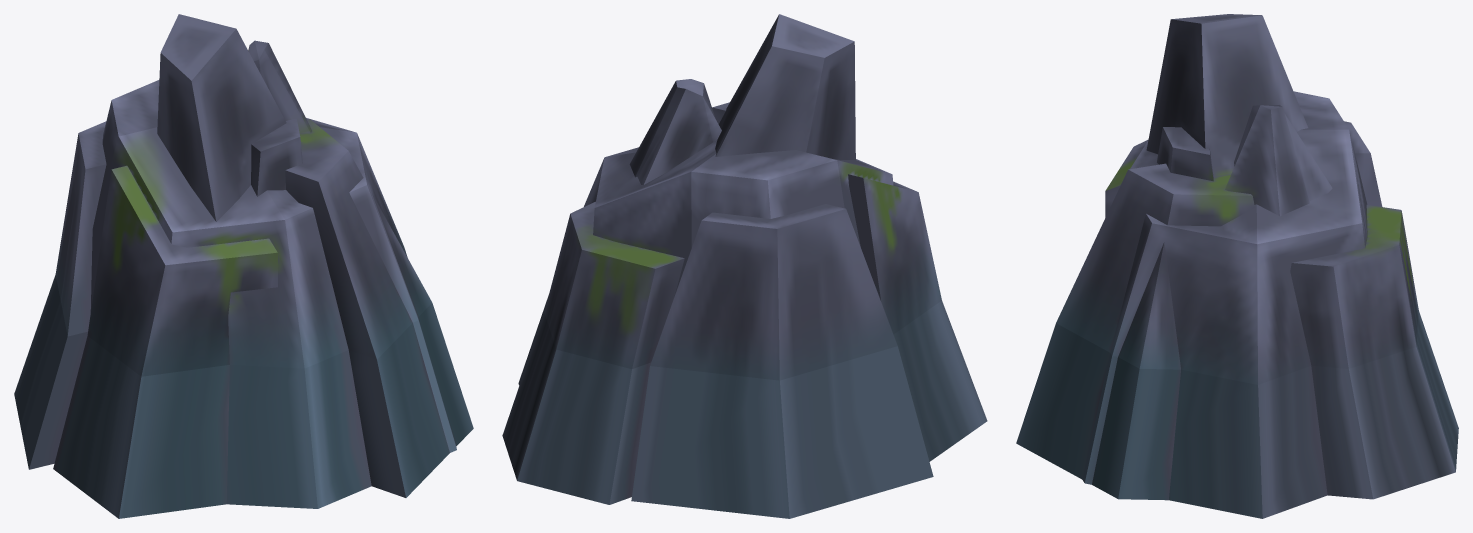
The model's file is Rock1.fbx.
The picture shows the model from 3 angles, left to right: view 1: azimuth 30°, elevation 25°; view 2: azimuth 150°, elevation 25°; view 3: azimuth 270°, elevation 25°; orthographic projection. The views are drawn at different scales.
Parts seen in each view (by area): view 1: Rock1; view 2: Rock1; view 3: Rock1.
Boxes of the visible parts, x1=… form: Rock1: x1=14, y1=14, x2=473, y2=518; Rock1: x1=502, y1=14, x2=987, y2=518; Rock1: x1=1016, y1=14, x2=1458, y2=518.
Bounding box in the file's own units: 431 × 407 × 421.
